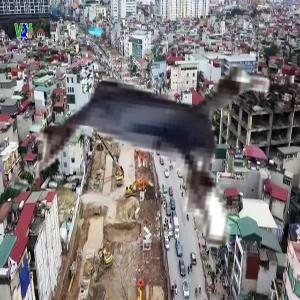drone: (5, 4, 293, 292)
